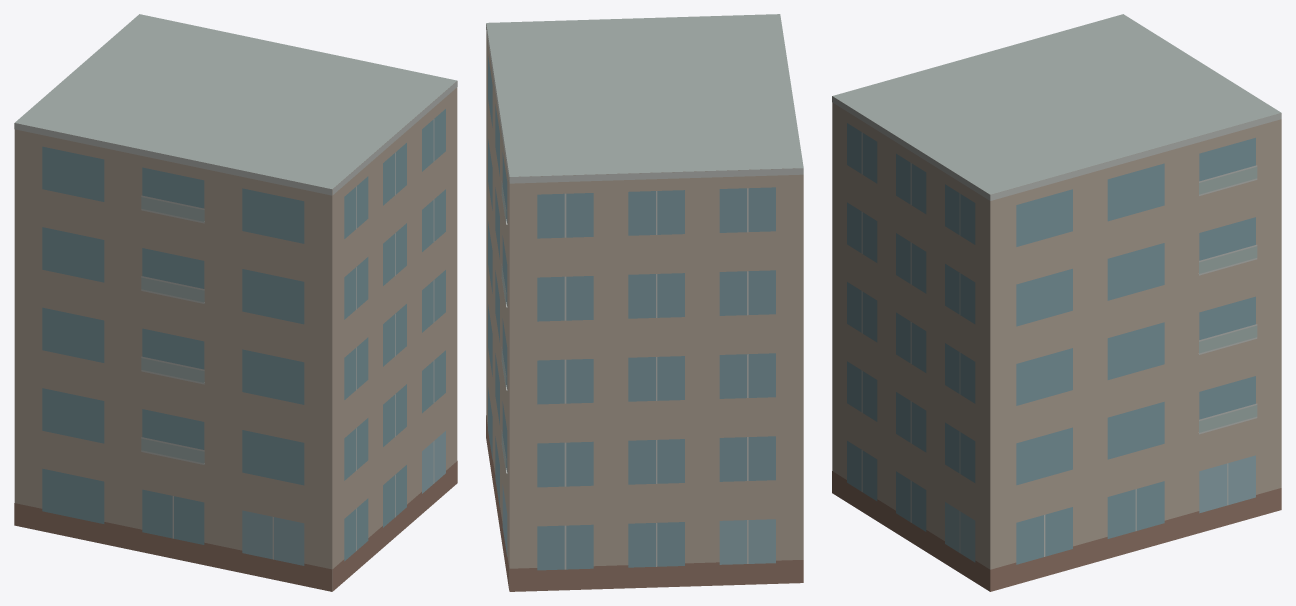
File: survey-upis-32944915.glb
The picture shows the model from 3 angles, left to right: view 1: azimuth 30°, elevation 25°; view 2: azimuth 150°, elevation 25°; view 3: azimuth 270°, elevation 25°; orthographic projection. The views are drawn at different scales.
Parts seen in each view (by area): view 1: survey-upis-32944915.tmp; view 2: survey-upis-32944915.tmp; view 3: survey-upis-32944915.tmp.
Boxes of the visible parts, box(x1,y1,x2,y2) form: survey-upis-32944915.tmp: box(14, 14, 457, 591); survey-upis-32944915.tmp: box(486, 14, 803, 591); survey-upis-32944915.tmp: box(832, 14, 1281, 591).
Bounding box in the file's own units: 15.05 × 15.4 × 15.81.
